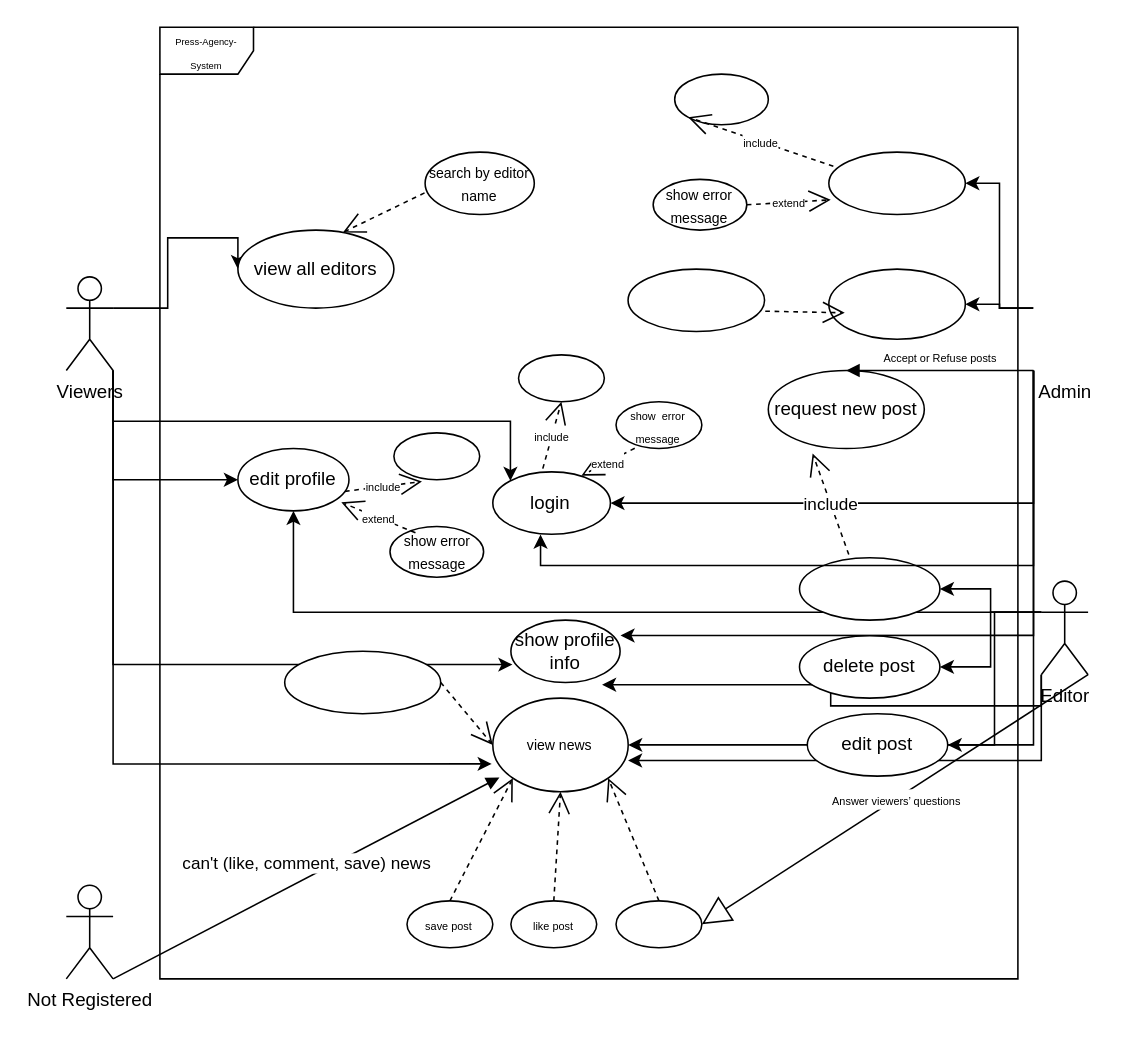
This 1143x1039 diagram has some shape labels left out. The shapes that lost their labels are listed below. From the top down, each one's centre as x and y in pixels, then its label:
At point 720,99: "check for account".
At point 896,182: "add user".
At point 695,300: "delete user".
At point 896,303: "view users list".
At point 560,377: "check accaunt".
At point 436,455: "cheak data".
At point 869,588: "add post".
At point 362,682: "Search by(date, editor name)".
At point 658,923: "comment".
